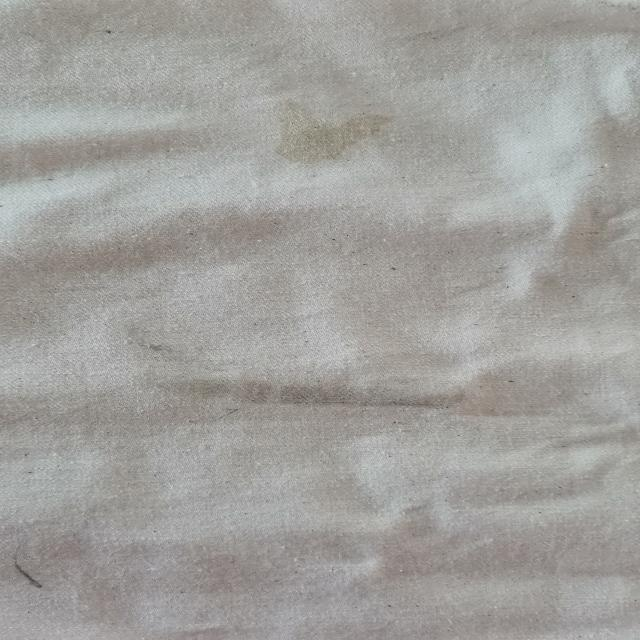taaaches: (143, 376, 496, 421), (246, 84, 407, 174), (102, 328, 225, 366), (14, 557, 51, 598)
